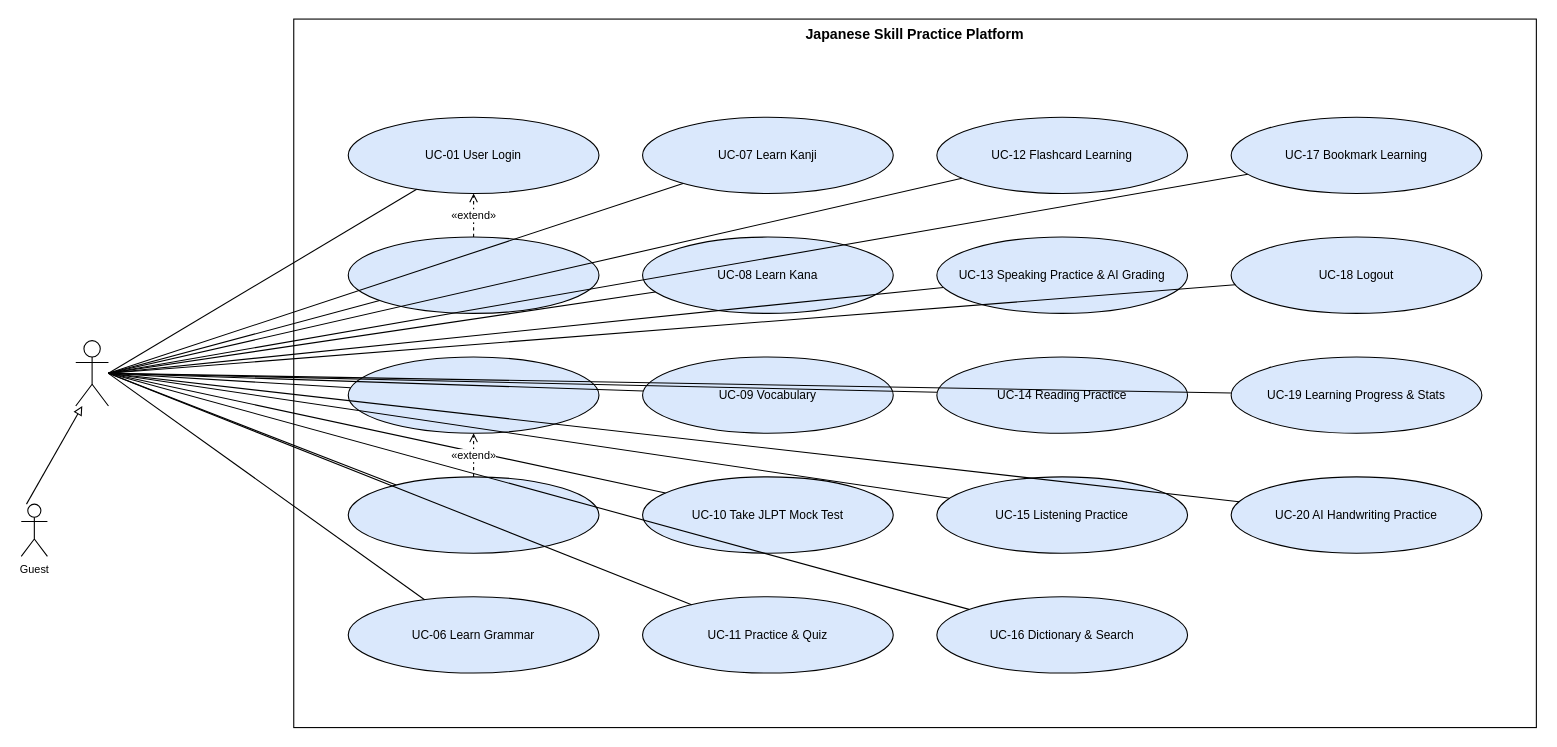
The diagram is 1557 pixels wide and 747 high, and some of its shapes have lost their labels. The shapes that lost their labels are listed below. From the top down, each one's box as (x1, y1, x2, y2) in pixels, then its label:
(347, 236, 599, 313): UC-03 Reset Password
(75, 340, 108, 406): Student
(347, 356, 599, 433): UC-04 User Profile
(347, 476, 599, 553): UC-05 Change Password
